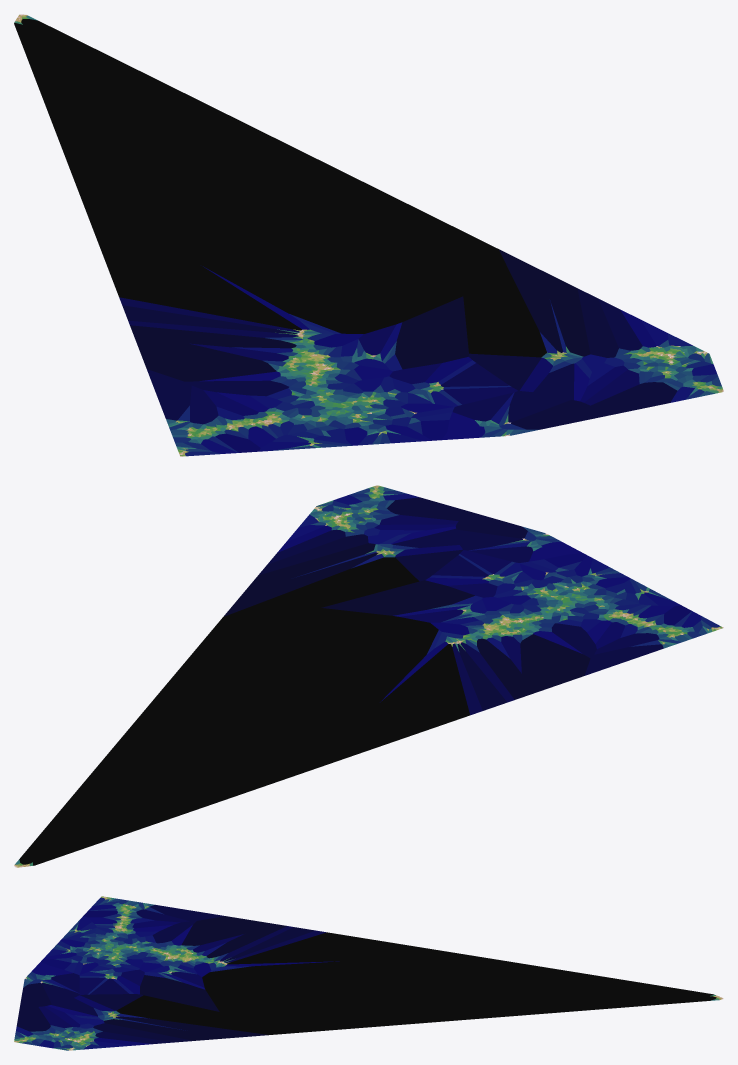
File: 'umap5_voronoi.gltf
3 views of the same model, one above another, from view 1: azimuth 30°, elevation 25°; view 2: azimuth 150°, elevation 25°; view 3: azimuth 270°, elevation 25° (orthographic). The views are drawn at different scales.
Parts seen in each view (by area): view 1: Renderer Node; view 2: Renderer Node; view 3: Renderer Node.
Part boxes in pixels (x1,y1,x2,y2): Renderer Node: (14,14,723,456); Renderer Node: (14,485,723,867); Renderer Node: (14,896,723,1050).
Bounding box in the file's own units: 0.5152 × 0 × 1.
1 material, 1 textured.
